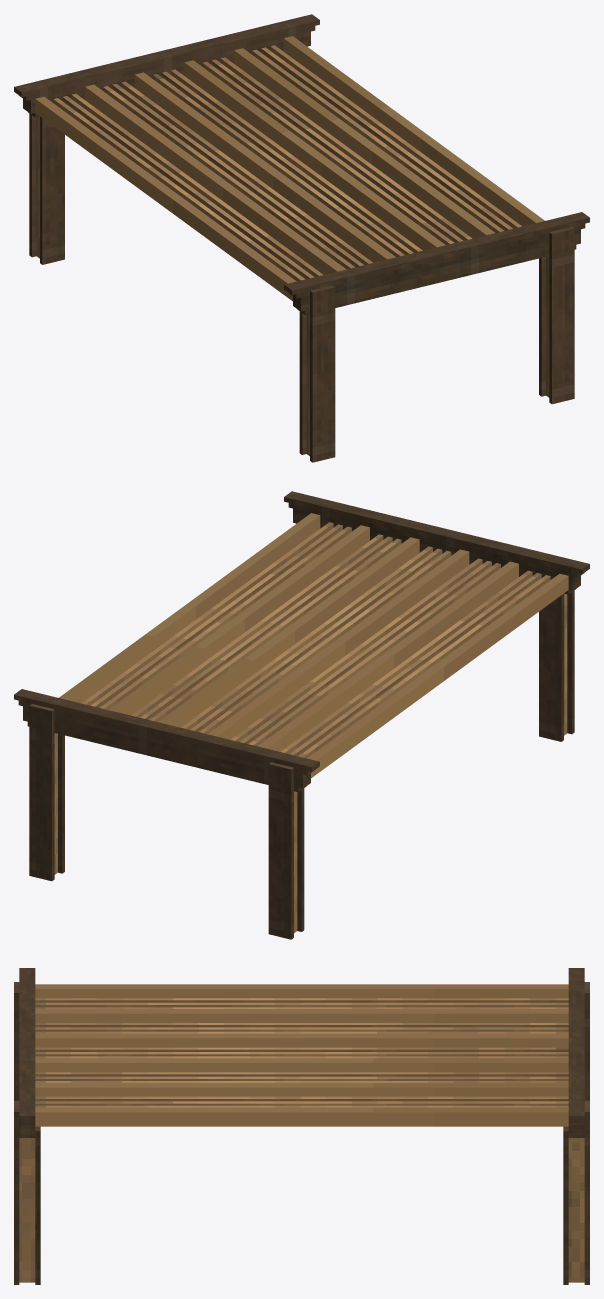
The model's file is CarPort_Wide.fbx.
3 renders of one model, top to bottom at view 1: azimuth 30°, elevation 25°; view 2: azimuth 150°, elevation 25°; view 3: azimuth 270°, elevation 25°, orthographic.
Visible parts, largest first — view 1: CarPort_Wide; view 2: CarPort_Wide; view 3: CarPort_Wide.
Part boxes in pixels (bbox=[...]): CarPort_Wide: bbox=[14, 14, 589, 462]; CarPort_Wide: bbox=[14, 491, 589, 939]; CarPort_Wide: bbox=[14, 968, 589, 1284].
Bounding box in the file's own units: 327 × 183 × 538.
2 materials, 2 textured.
